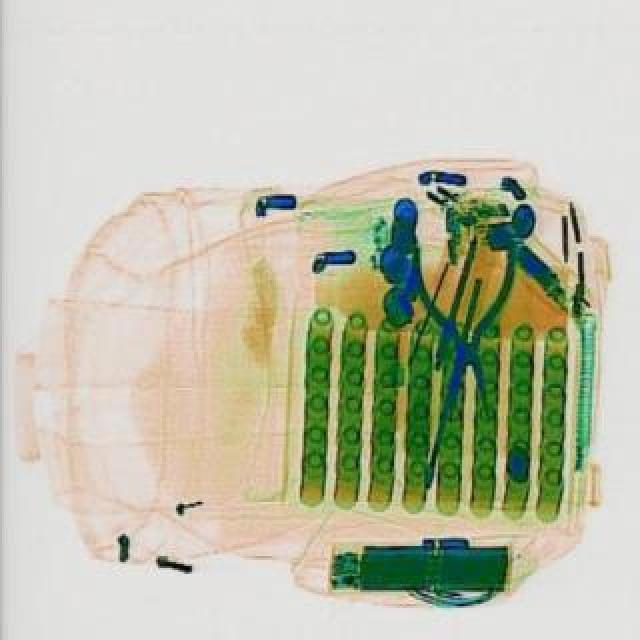wrench: (410, 242, 518, 430)
